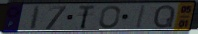7: (45, 5, 68, 30)
I: (29, 5, 43, 31), (135, 4, 148, 29)
O: (98, 5, 122, 30)
Q: (152, 4, 177, 30)
T: (77, 5, 97, 31)
